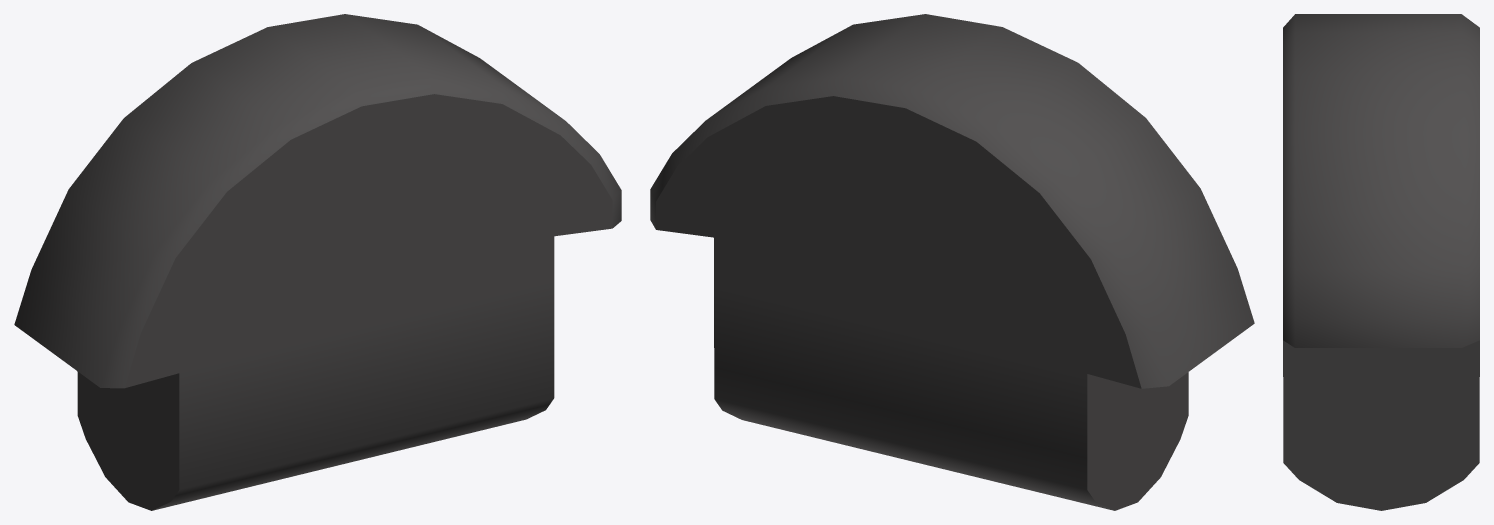
Rendered from LAnklePitch.dae.
3 views of the same model, side by side, from view 1: azimuth 30°, elevation 25°; view 2: azimuth 150°, elevation 25°; view 3: azimuth 270°, elevation 25° (orthographic). The views are drawn at different scales.
Parts seen in each view (by area): view 1: LAnklePitch; view 2: LAnklePitch; view 3: LAnklePitch.
Part boxes in pixels (x1=…): LAnklePitch: x1=14, y1=14, x2=621, y2=510; LAnklePitch: x1=650, y1=14, x2=1254, y2=510; LAnklePitch: x1=1283, y1=14, x2=1479, y2=510.
Size of the model in its own units: 0.8413 by 0.2852 by 0.6182.
Materials: 1 (1 with a texture image).
